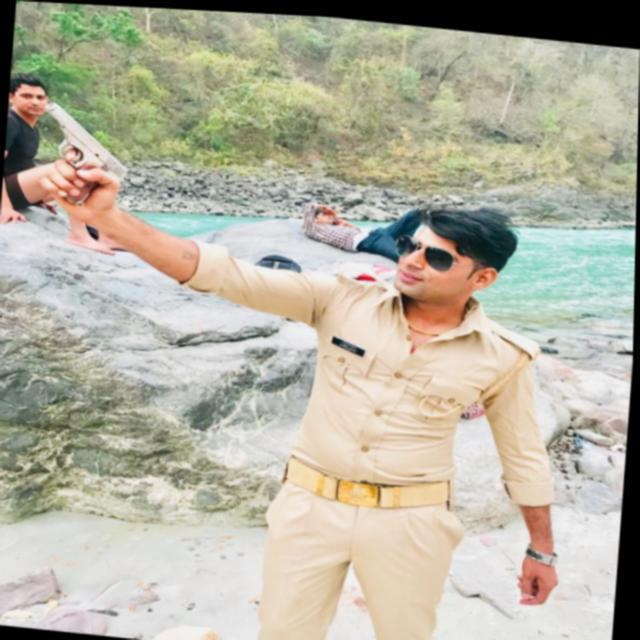weapon: (34, 98, 139, 213)
